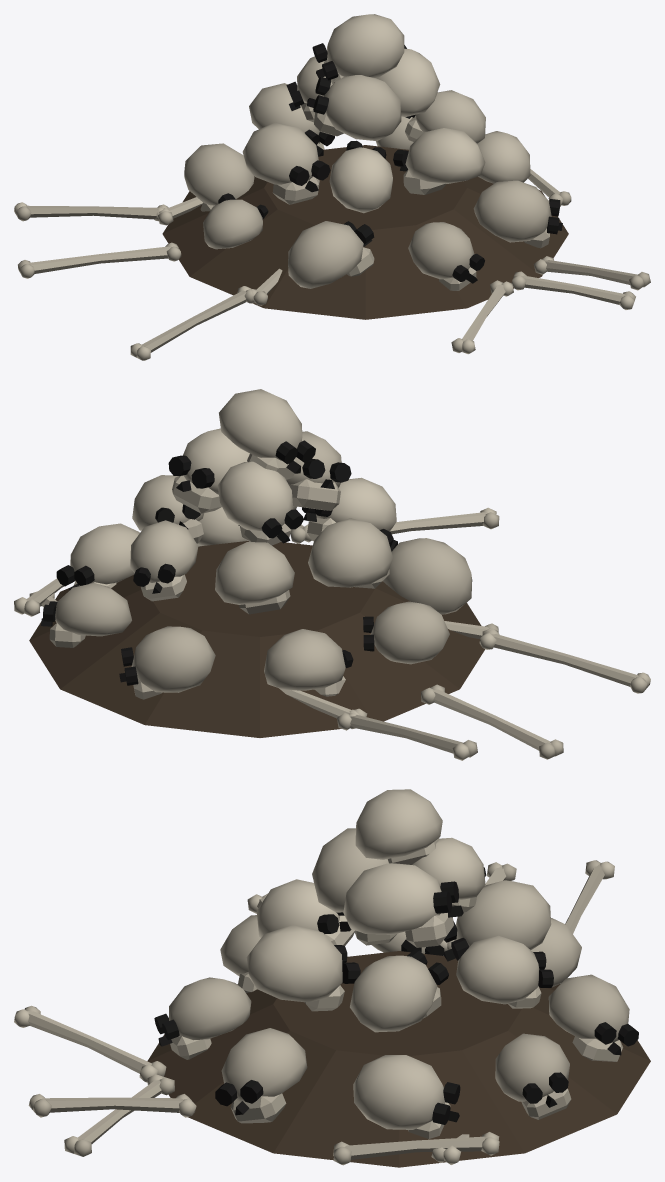
File: skull_pile.glb
3 views of the same model, one above another, from view 1: azimuth 30°, elevation 25°; view 2: azimuth 150°, elevation 25°; view 3: azimuth 270°, elevation 25° (orthographic). The views are drawn at different scales.
Visible parts, largest first — view 1: skull_pile; view 2: skull_pile; view 3: skull_pile.
Boxes of the visible parts, box(x1,y1,x2,y2) form: skull_pile: box(14, 14, 650, 360); skull_pile: box(14, 389, 650, 760); skull_pile: box(14, 789, 650, 1167).
Bounding box in the file's own units: 1.66 × 0.7626 × 1.52.
